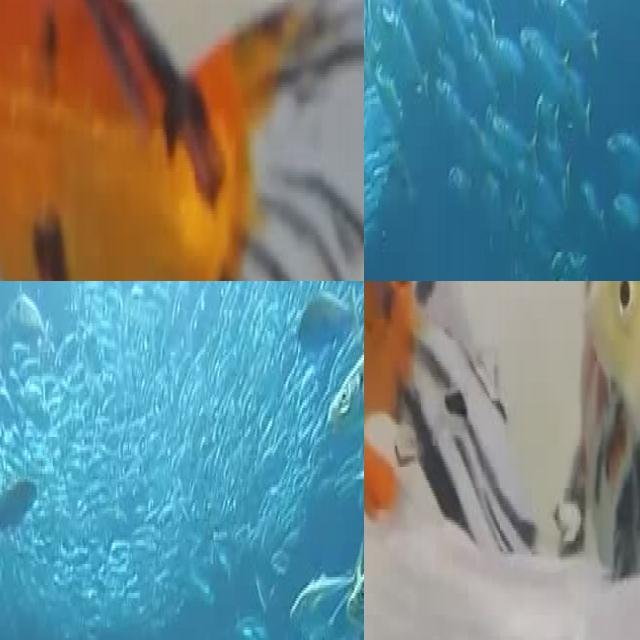fish: (0, 0, 364, 281), (574, 281, 640, 612)
